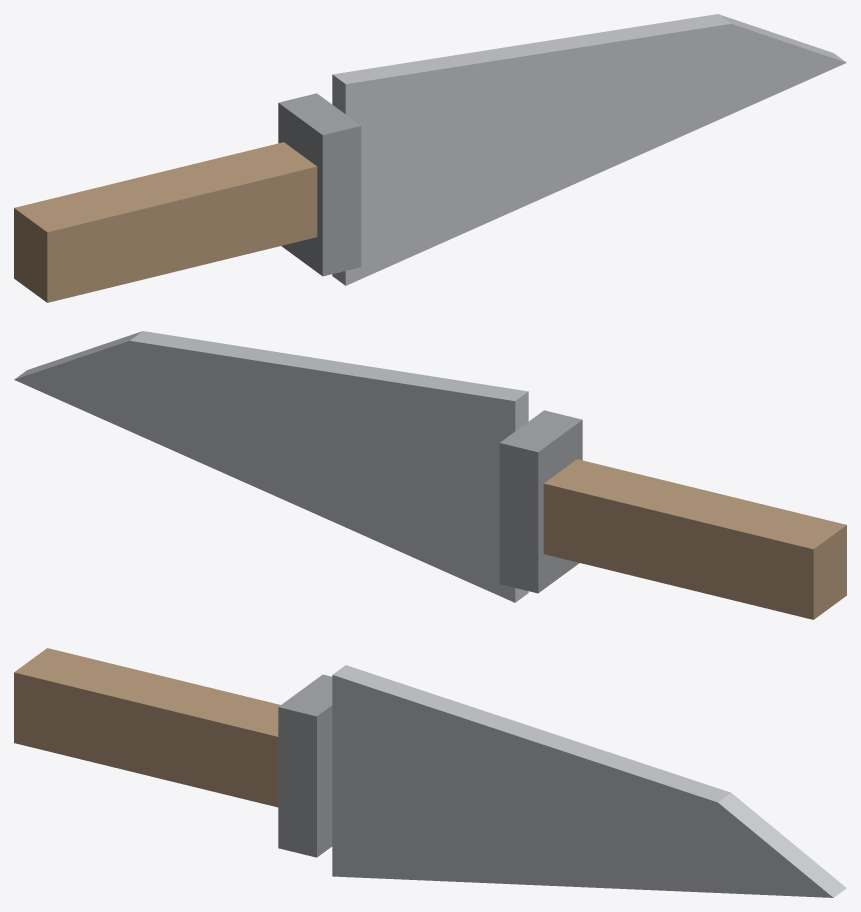
The model's file is held_weapon_cleaver.glb.
3 views of the same model, one above another, from view 1: azimuth 30°, elevation 25°; view 2: azimuth 150°, elevation 25°; view 3: azimuth 330°, elevation 25° (orthographic).
Parts seen in each view (by area): view 1: held_weapon_cleaver; view 2: held_weapon_cleaver; view 3: held_weapon_cleaver.
Part boxes in pixels (x1,y1,x2,y2): held_weapon_cleaver: (14,14,846,302); held_weapon_cleaver: (14,331,846,619); held_weapon_cleaver: (14,648,846,897).
Size of the model in its own units: 0.42 by 0.1 by 0.04.
